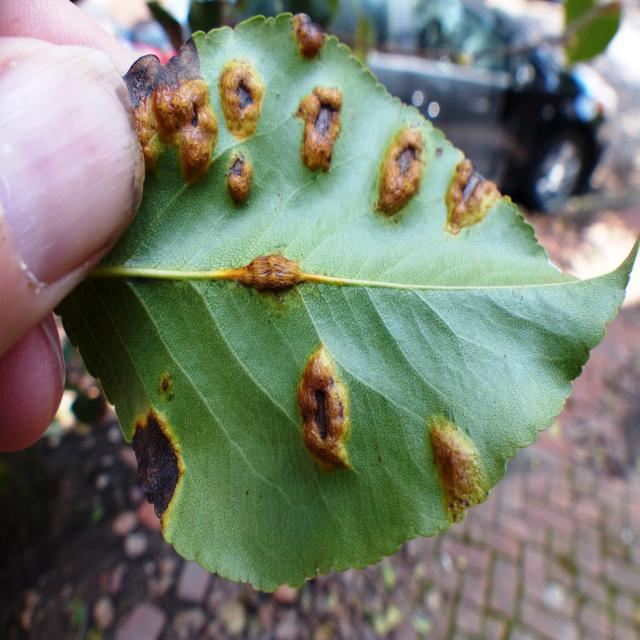leaf_rust: (56, 14, 637, 590)
